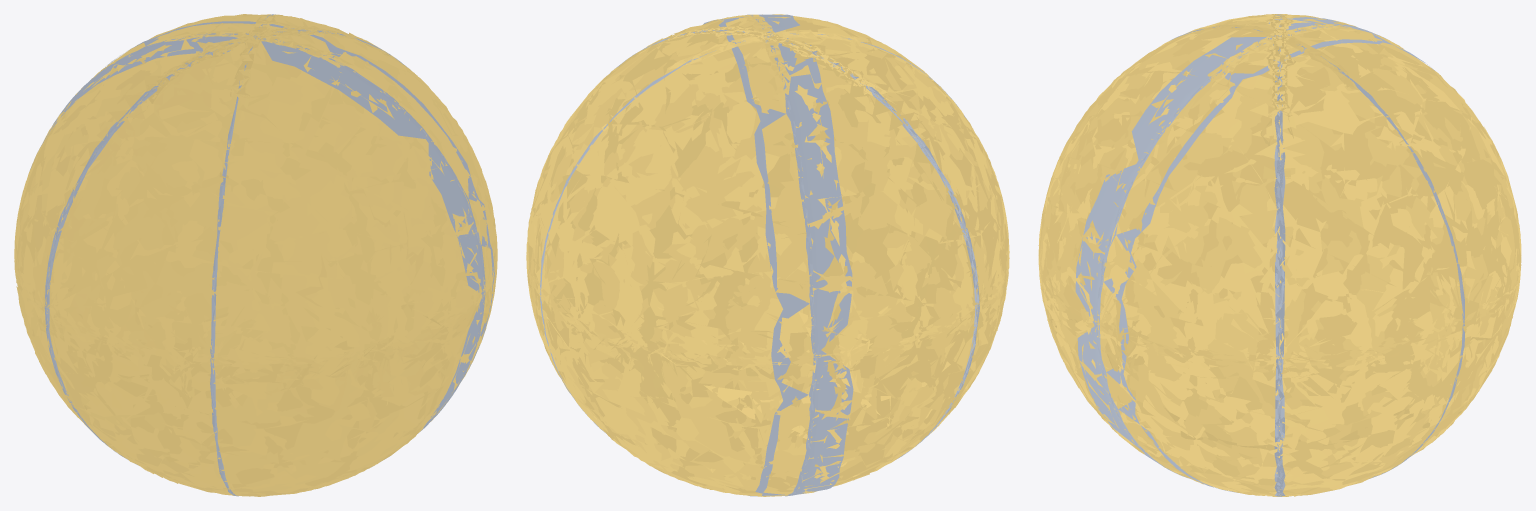
3 renders of one model, left to right at view 1: azimuth 30°, elevation 25°; view 2: azimuth 150°, elevation 25°; view 3: azimuth 270°, elevation 25°, orthographic.
Visible parts, largest first — view 1: anodes, structure; view 2: anodes, structure; view 3: anodes, structure.
Boxes of the visible parts, box(x1,y1,x2,y2) form: anodes: box(14, 14, 497, 496); structure: box(30, 14, 494, 496); anodes: box(526, 14, 1009, 496); structure: box(539, 14, 979, 496); anodes: box(1038, 14, 1521, 496); structure: box(1075, 14, 1464, 496).
Size of the model in its own units: 2 by 2 by 2.
